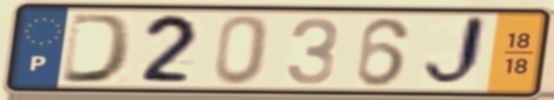0: (210, 12, 273, 88)
2: (136, 12, 203, 87)
3: (284, 16, 341, 86)
6: (354, 15, 414, 89)
D: (57, 11, 136, 86)
J: (420, 13, 491, 92)
